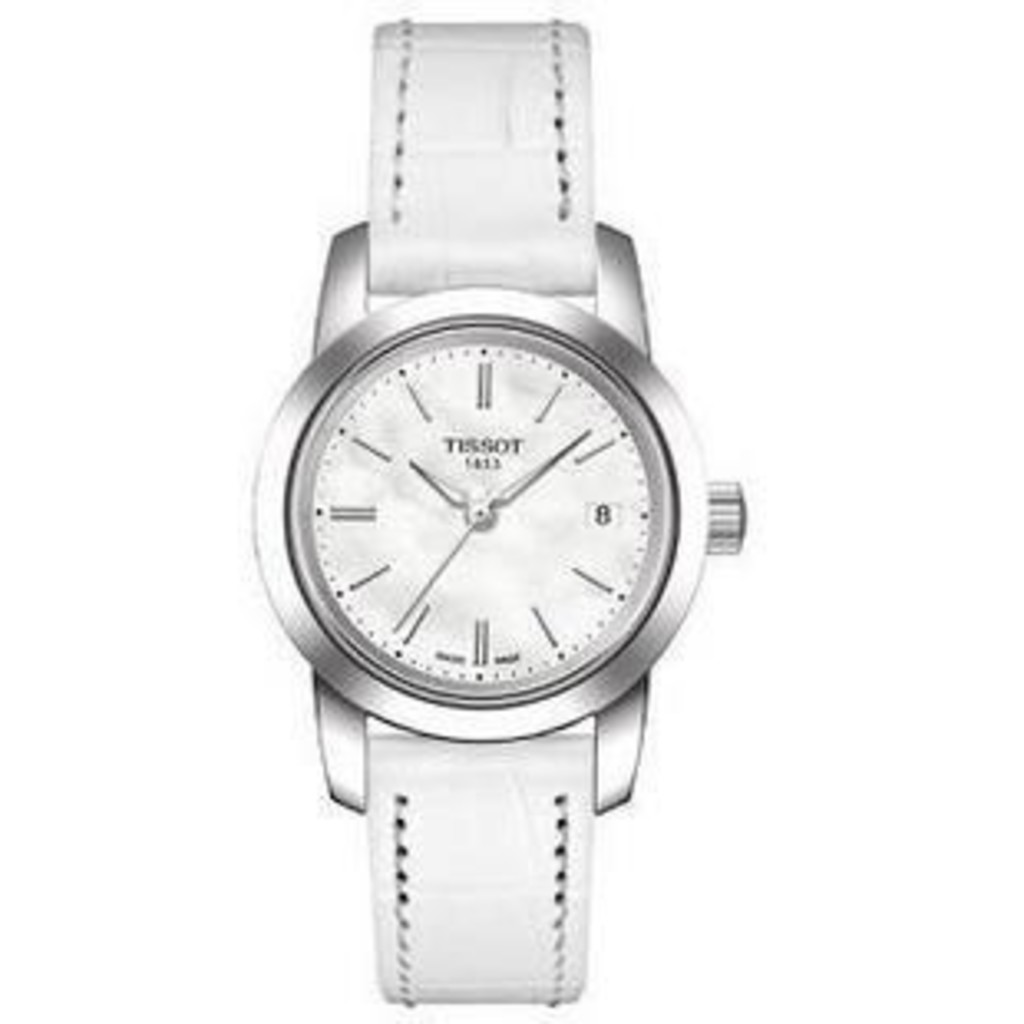watch: (251, 13, 733, 1000)
